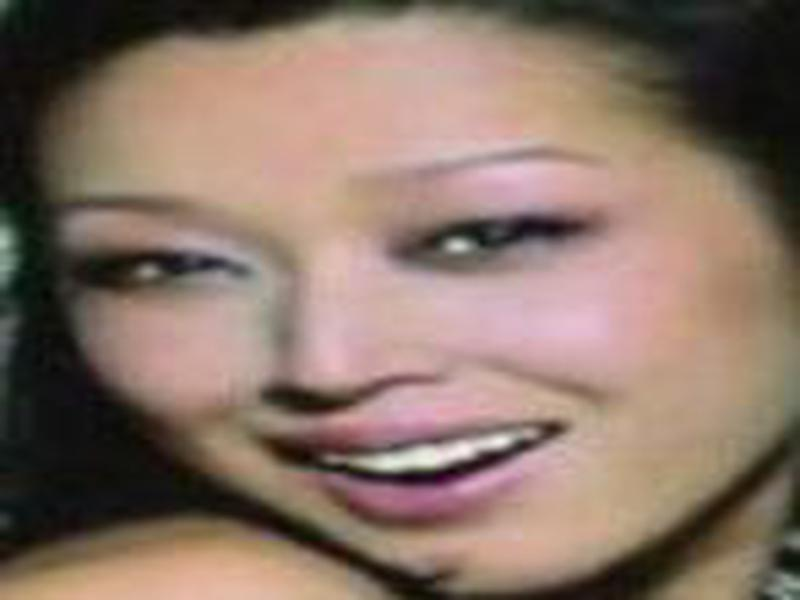without_mask: (38, 31, 789, 597)
